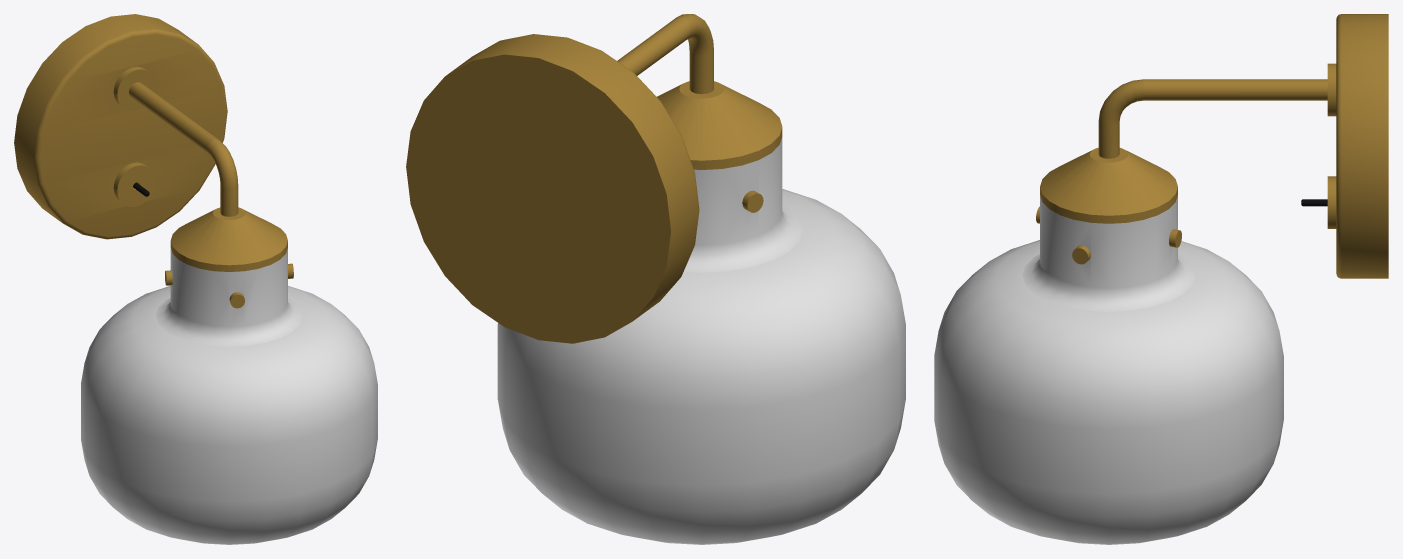
File: wall_lamp_3.glb
The picture shows the model from 3 angles, left to right: view 1: azimuth 30°, elevation 25°; view 2: azimuth 150°, elevation 25°; view 3: azimuth 270°, elevation 25°; orthographic projection. The views are drawn at different scales.
Visible parts, largest first — view 1: root; view 2: root; view 3: root.
Boxes of the visible parts, x1=… form: root: x1=14, y1=14, x2=377, y2=544; root: x1=406, y1=14, x2=905, y2=544; root: x1=934, y1=14, x2=1388, y2=544.
Size of the model in its own units: 0.2 by 0.3 by 0.26.
